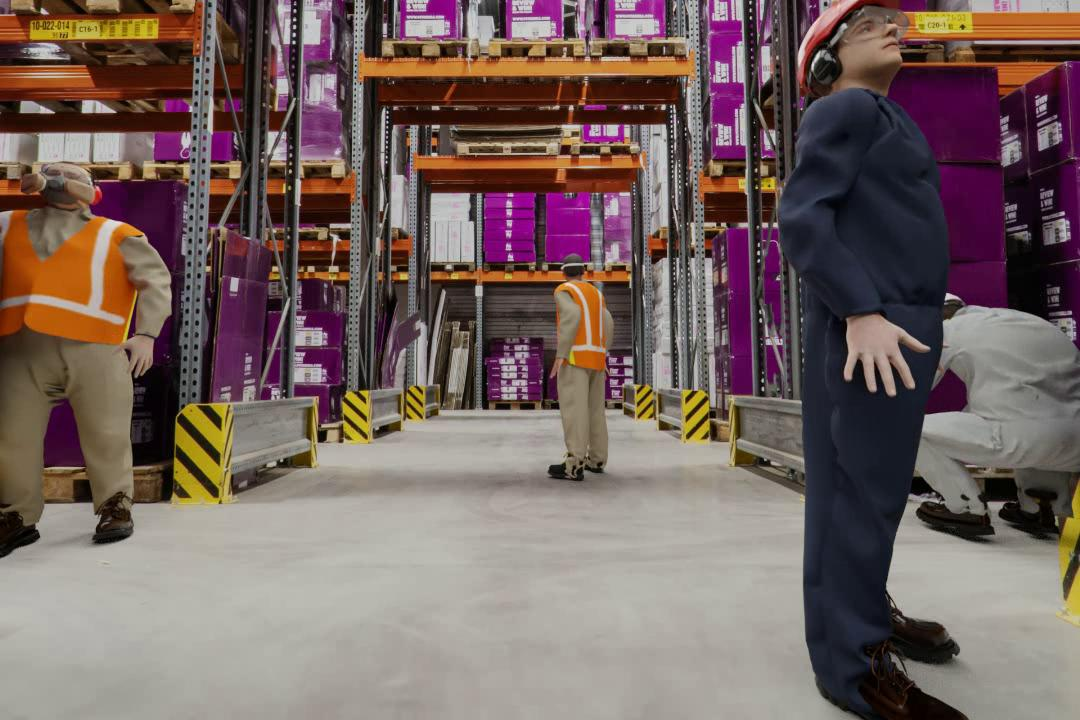Helmet: (792, 0, 890, 84)
Jacket: (8, 199, 121, 344), (556, 281, 607, 359)
Shoes: (819, 621, 967, 720), (896, 592, 964, 668), (916, 497, 993, 543), (999, 498, 1064, 544), (91, 491, 135, 547), (0, 509, 40, 566), (548, 460, 584, 481), (585, 458, 606, 473)
